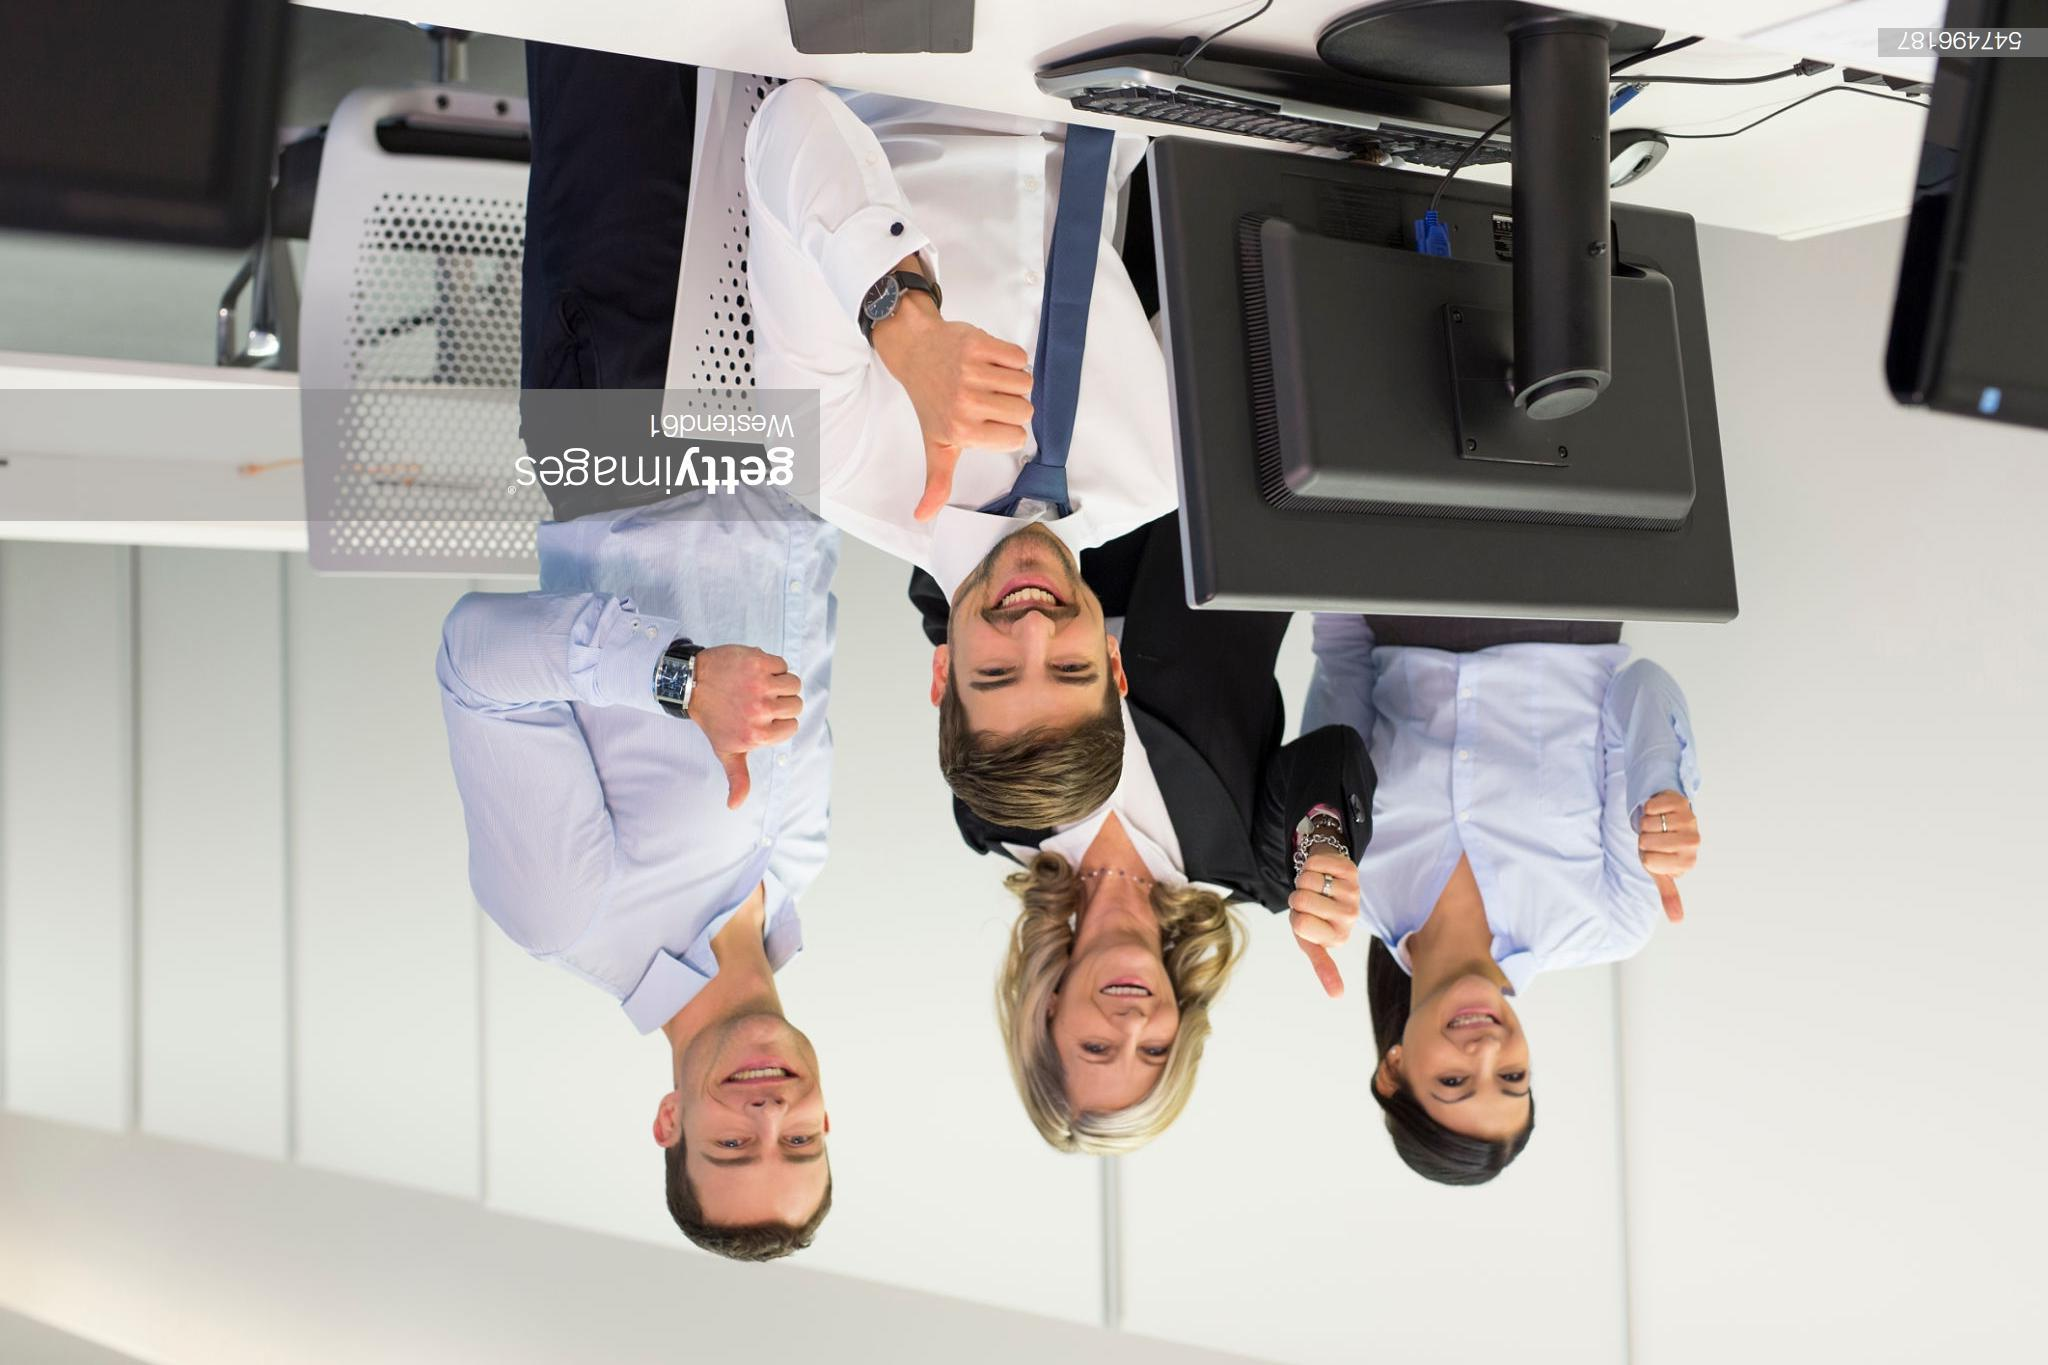thumbsdown: (914, 331, 1035, 523), (722, 646, 804, 810), (1288, 855, 1361, 998), (1638, 795, 1699, 923)
